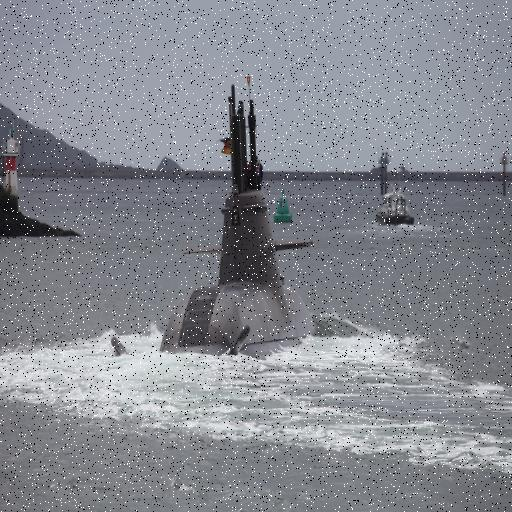submarine: (105, 71, 348, 376)
